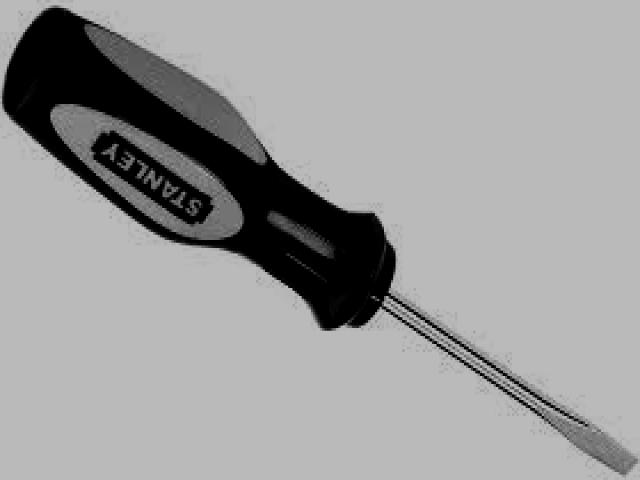Screwdriver: (5, 11, 634, 473)
